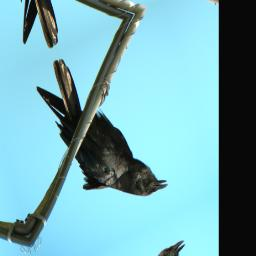Crow: (30, 25, 170, 234)
